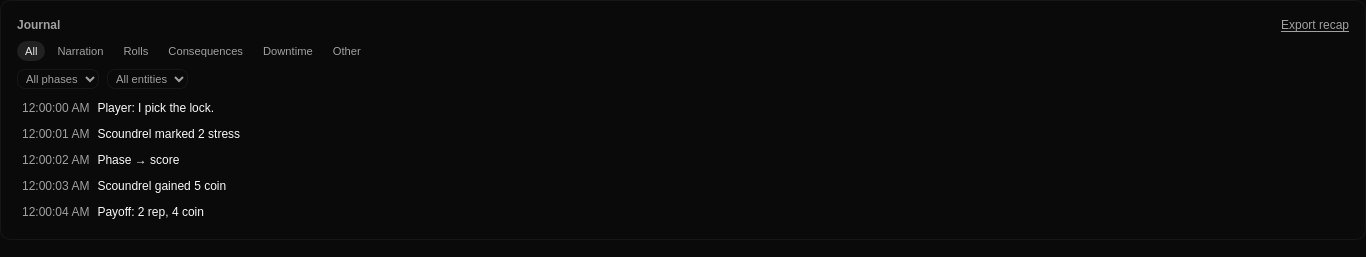
JournalPanel › filters to the downtime category, now that it has content
Click the button "Downtime".
click(288, 51)  # box [255,41,321,61]
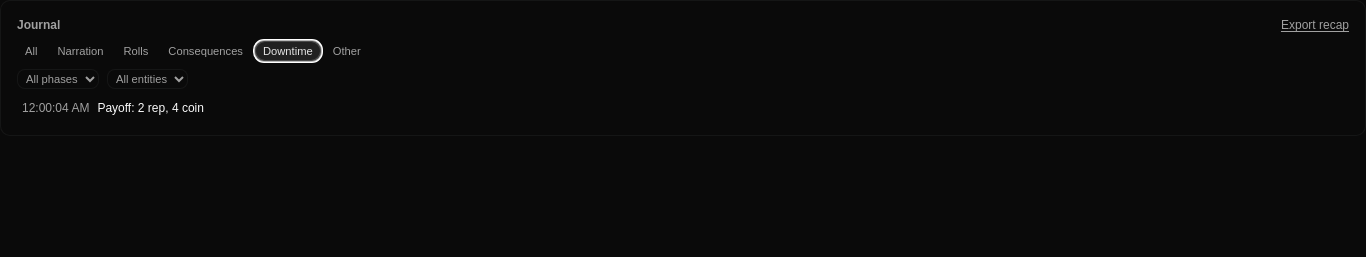
Expected: the text "Payoff: 2 rep, 4 coin" is shown, [97,100,204,116]
Now the heading "Player: I pick the lock." is gone
Now the heading "Scoundrel marked 2 stress" is gone
